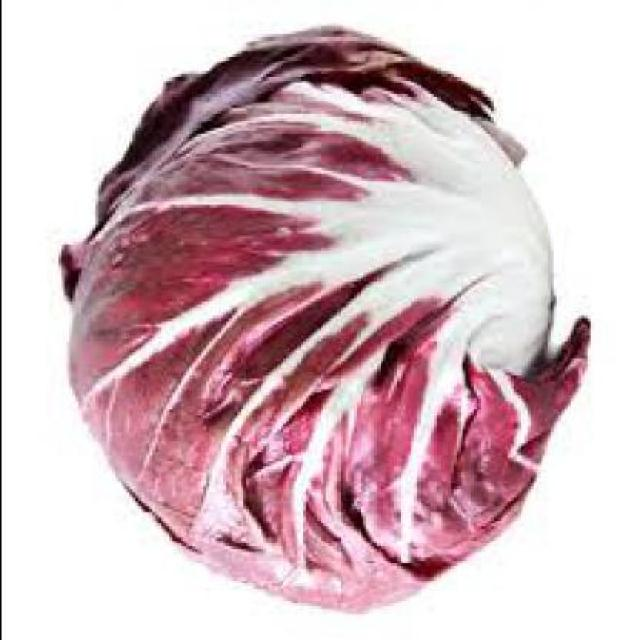BIODEGRADABLE: (54, 20, 586, 614)
